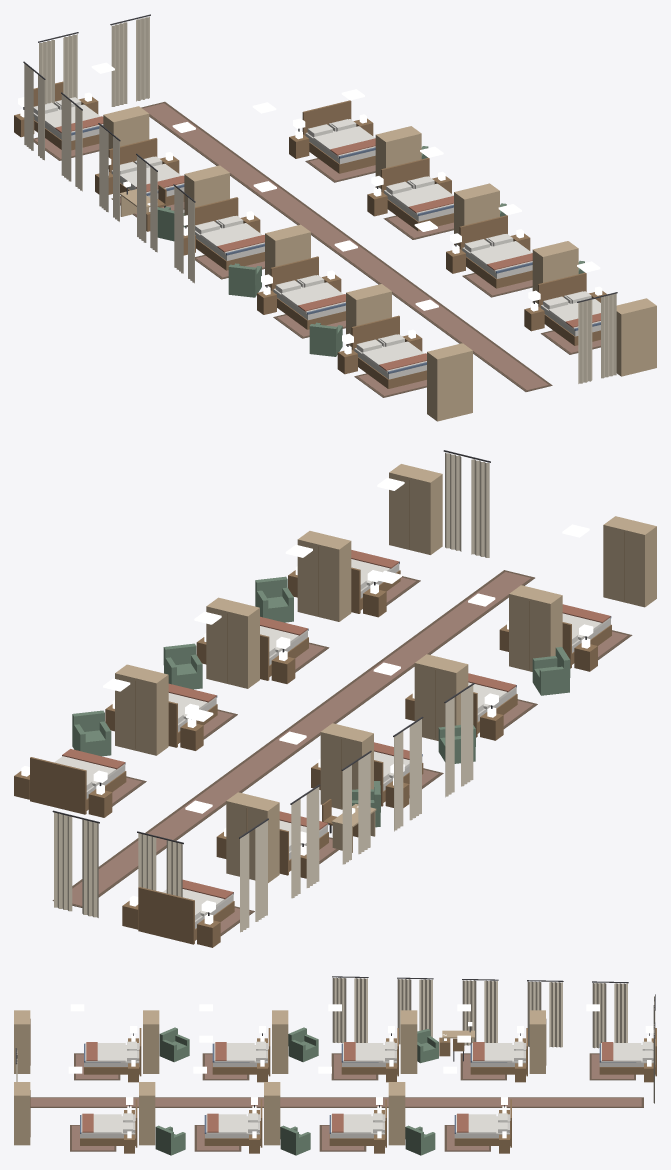
File: fine-s1.glb
3 renders of one model, top to bottom at view 1: azimuth 30°, elevation 25°; view 2: azimuth 150°, elevation 25°; view 3: azimuth 270°, elevation 25°, orthographic. The views are drawn at different scales.
Visible parts, largest first — view 1: soft-s1, dresser.008, dresser.003, bed-frame.008, bed-frame.000, bed-frame.002, bed-frame.007, bed-frame.001, bed-frame.006, bed-frame.003, dresser.000, dresser.002 (+10 smaller); view 2: soft-s1, dresser.008, dresser.002, dresser.000, dresser.001, dresser.003, dresser.007, dresser.006, dresser.004, dresser.005, bed-frame.000, bed-frame.004 (+10 smaller); view 3: soft-s1, dresser.005, dresser.000, dresser.004, dresser.006, dresser.007, dresser.001, dresser.002, dresser.003, dresser.008, bed-frame.007, lounge-chair.004 (+14 smaller).
Boxes of the visible parts, <box> form: soft-s1: <box>18,14,617,397</box>; dresser.008: <box>427,343,472,421</box>; dresser.003: <box>616,298,656,376</box>; bed-frame.008: <box>351,315,426,388</box>; bed-frame.000: <box>302,100,375,173</box>; bed-frame.002: <box>459,215,532,288</box>; bed-frame.007: <box>270,256,345,329</box>; bed-frame.001: <box>381,157,453,231</box>; bed-frame.006: <box>195,197,264,270</box>; bed-frame.003: <box>538,272,600,345</box>; dresser.000: <box>375,126,421,188</box>; dresser.002: <box>532,241,578,303</box>; soft-s1: <box>52,450,632,935</box>; dresser.008: <box>603,516,656,607</box>; dresser.002: <box>297,531,351,621</box>; dresser.000: <box>115,664,168,755</box>; dresser.001: <box>206,597,259,688</box>; dresser.003: <box>389,464,442,554</box>; dresser.007: <box>509,585,562,671</box>; dresser.006: <box>414,654,468,740</box>; dresser.004: <box>226,792,279,882</box>; dresser.005: <box>320,723,373,809</box>; bed-frame.000: <box>30,757,126,814</box>; bed-frame.004: <box>138,887,234,944</box>; soft-s1: <box>15,976,655,1151</box>; dresser.005: <box>400,1010,417,1073</box>; dresser.000: <box>388,1082,405,1145</box>; dresser.004: <box>529,1010,546,1073</box>; dresser.006: <box>272,1010,288,1073</box>; dresser.007: <box>143,1010,159,1073</box>; dresser.001: <box>264,1082,280,1145</box>; dresser.002: <box>139,1082,155,1145</box>; dresser.003: <box>14,1082,30,1145</box>; dresser.008: <box>14,1010,30,1073</box>; bed-frame.007: <box>212,1028,270,1076</box>; lounge-chair.004: <box>288,1027,318,1062</box>.
Size of the model in its own units: 9.73 by 2.71 by 23.52.
